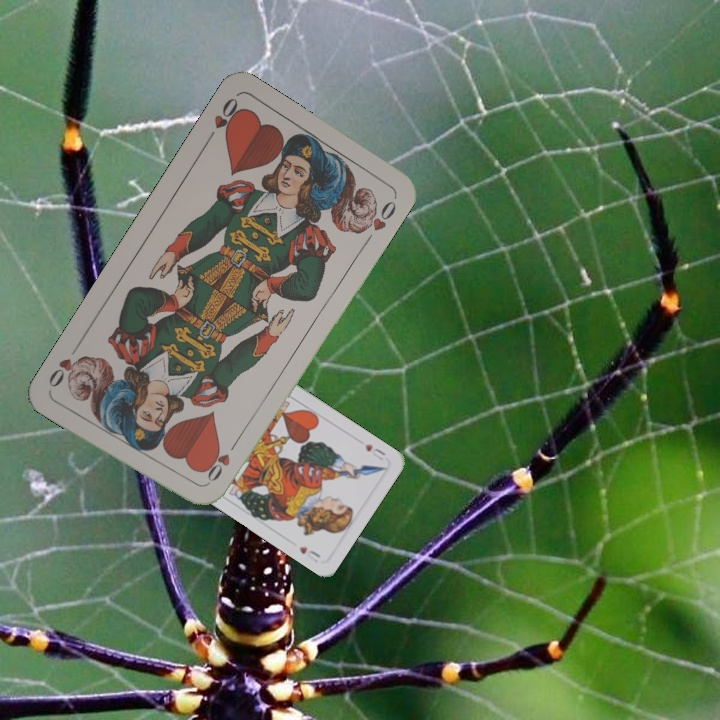HO: (202, 93, 245, 146), (200, 437, 240, 489)
HU: (360, 440, 388, 464)
